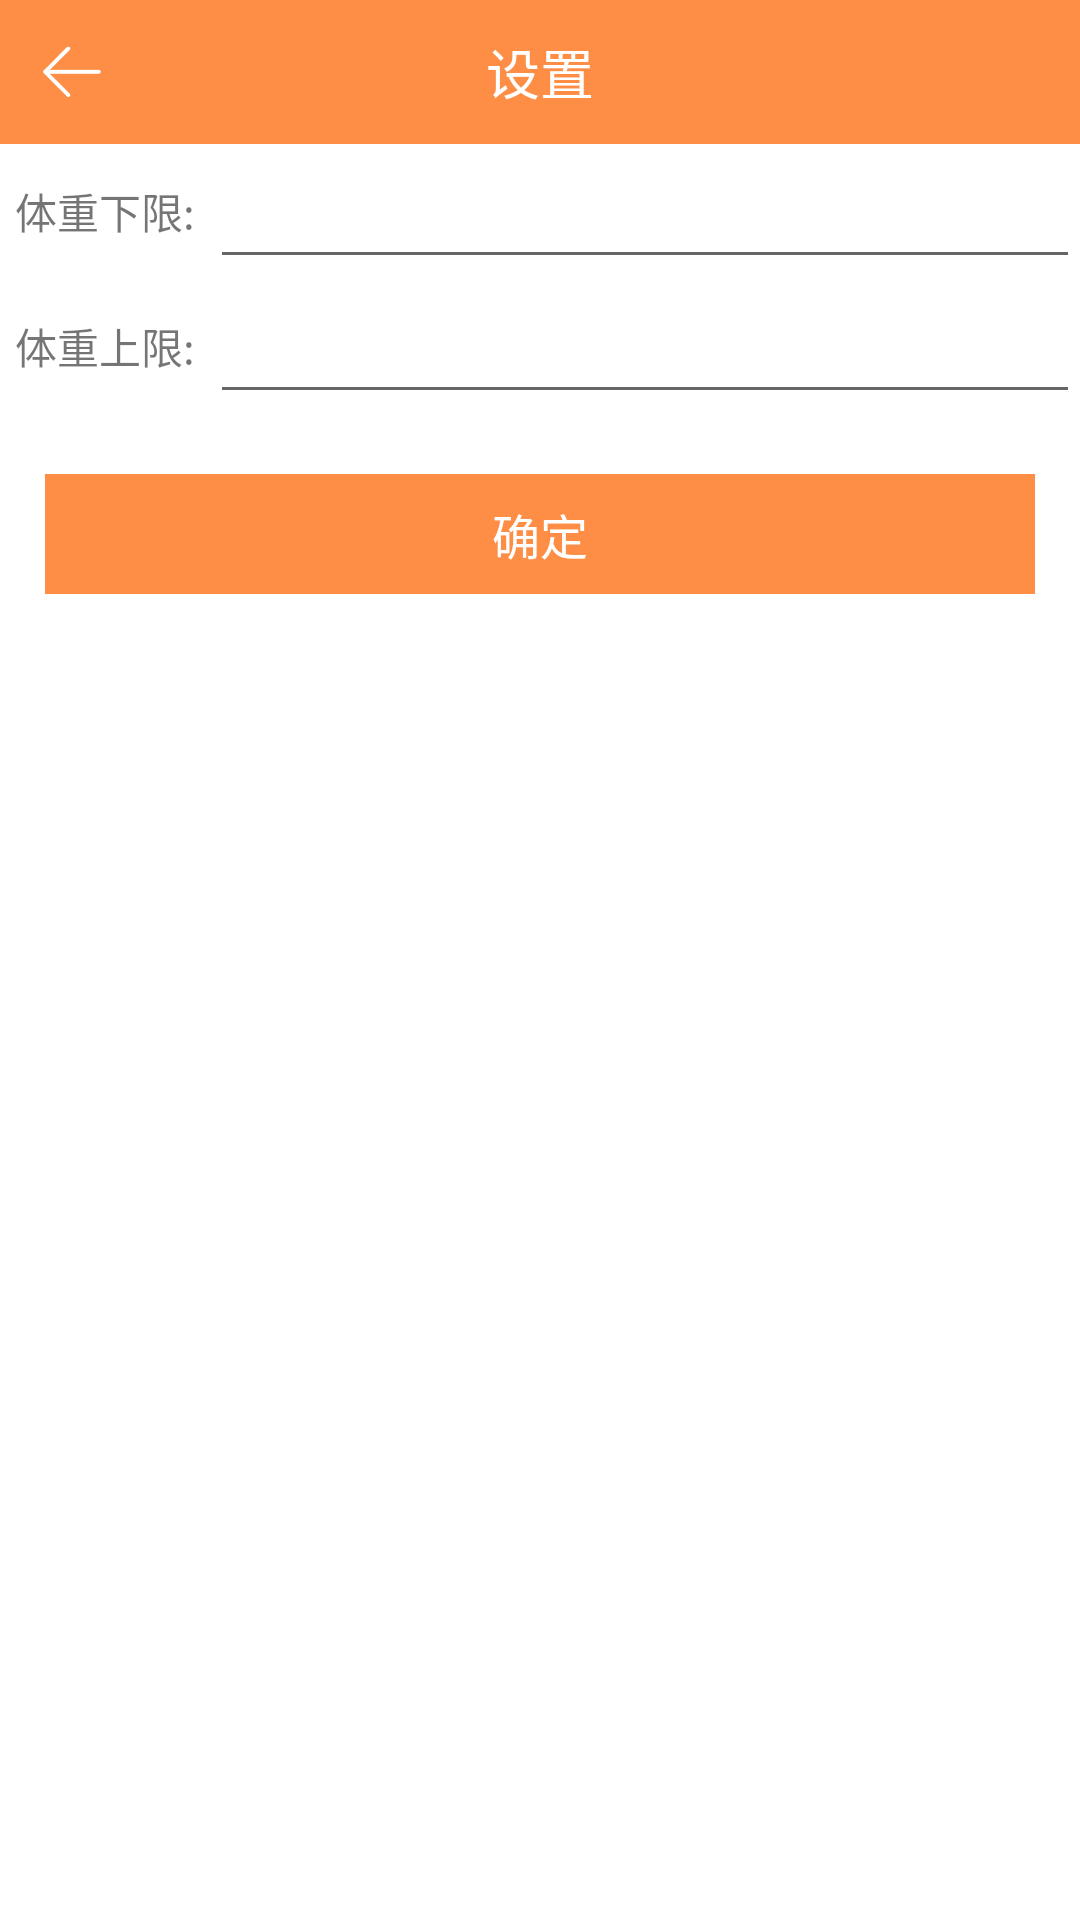

Named icons in this screenshot (1080x1920) and their bounding boxes, (x1, y1, x2, y2):
back: (43, 46, 101, 97)
